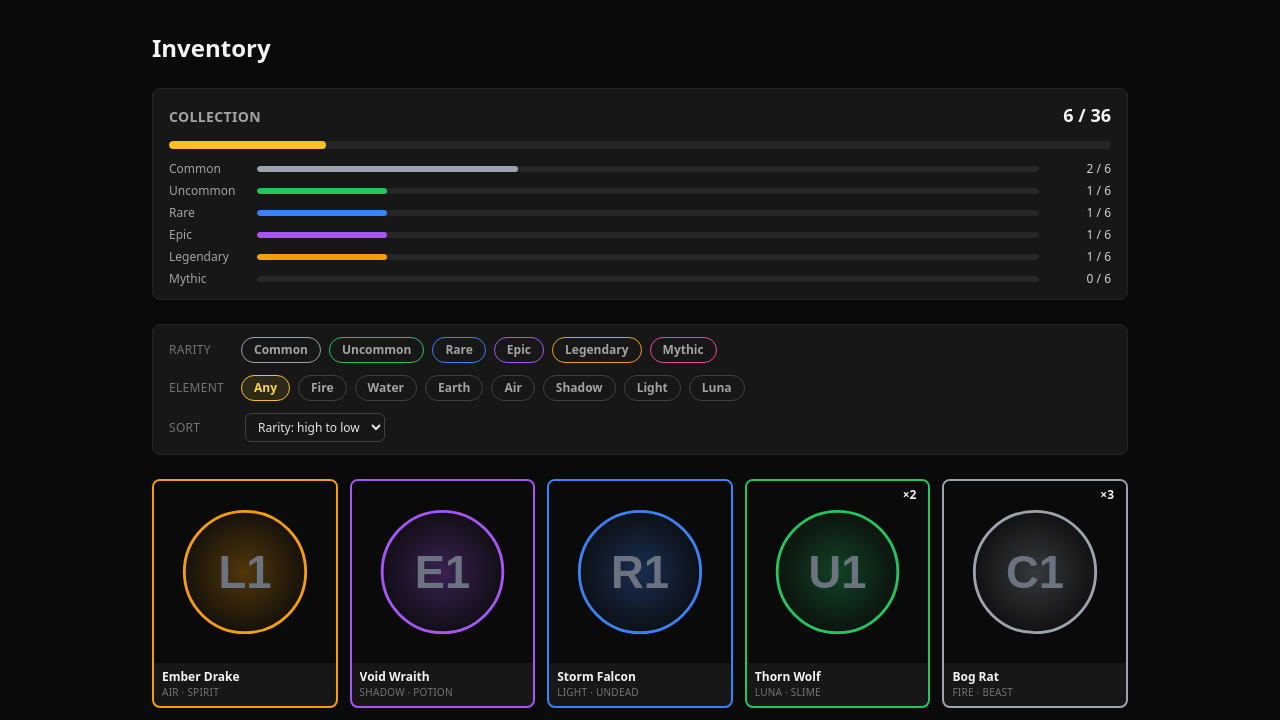
Inventory › selecting a card opens the detail view
The width and height of the screenshot is (1280, 720).
Click the text "Bog Rat" at (976, 676), box [952,668,999,685]
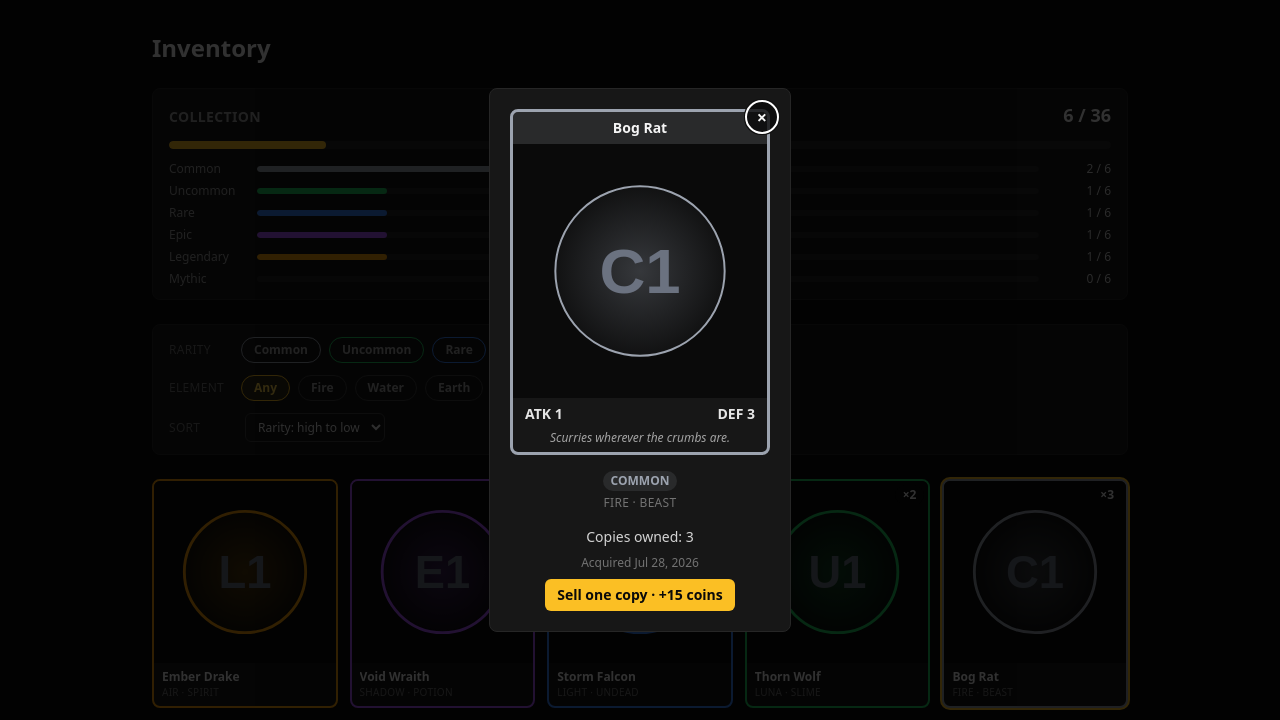
Check: the text "Copies owned: 3" is shown, box [586,527,694,547]
